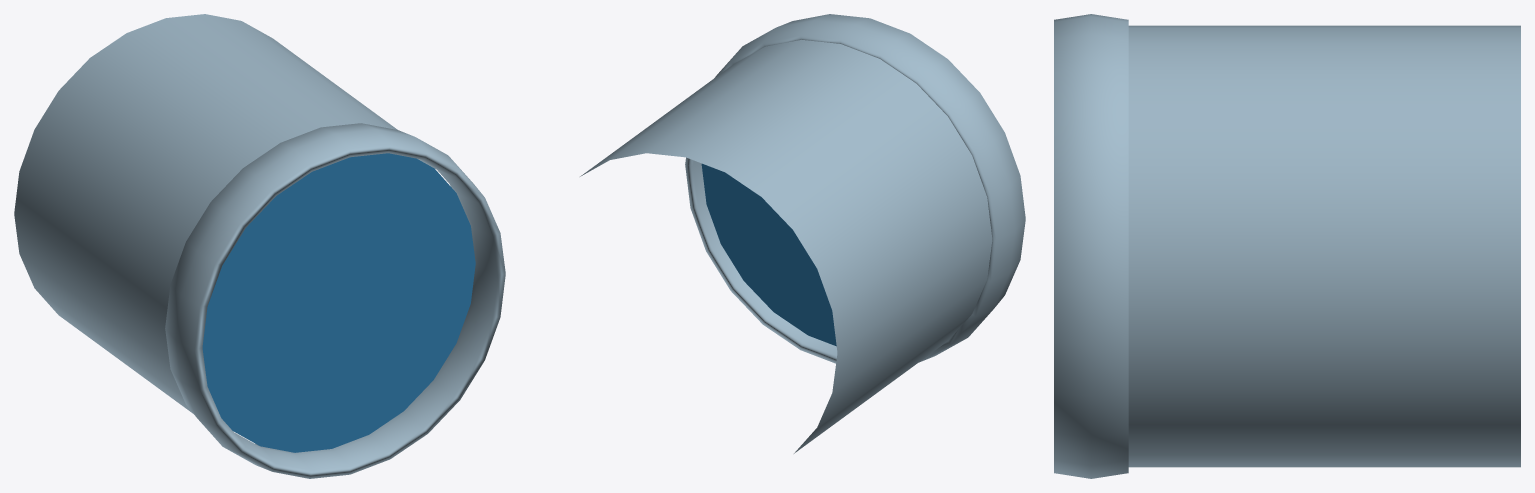
Rendered from pool.glb.
3 renders of one model, left to right at view 1: azimuth 30°, elevation 25°; view 2: azimuth 150°, elevation 25°; view 3: azimuth 270°, elevation 25°, orthographic. The views are drawn at different scales.
Size of the model in its own units: 1 by 1 by 1.
